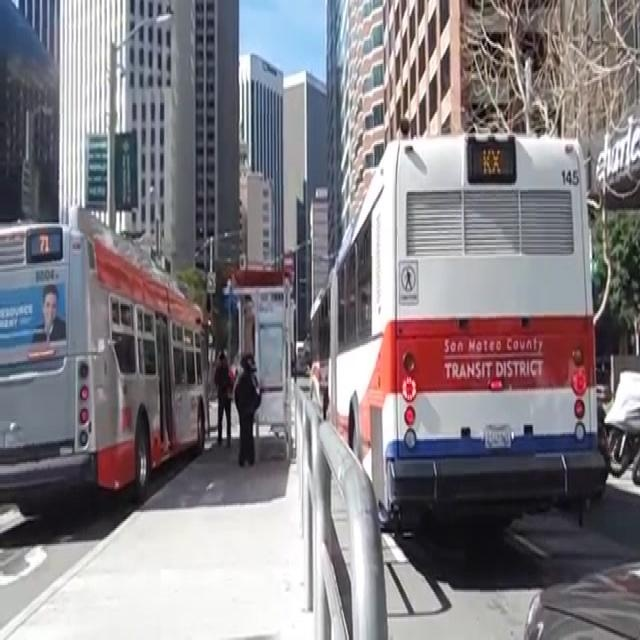Bus: (316, 130, 597, 530), (0, 208, 222, 501)
